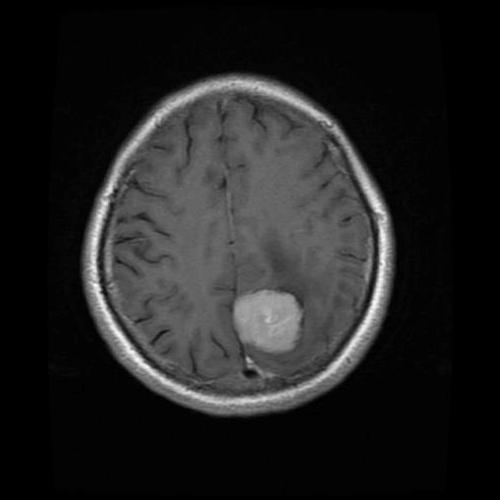Tumour-Meningioma: (212, 274, 328, 384)
